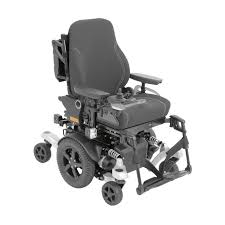wheelchair: (31, 22, 193, 207)
